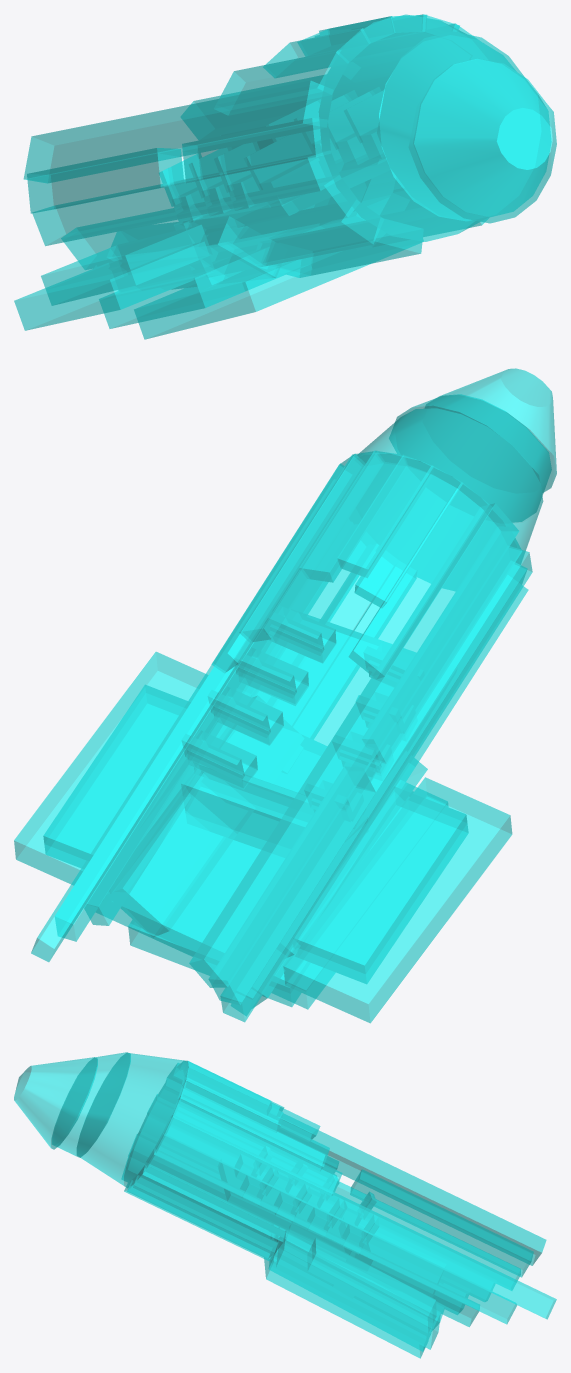
Rendered from SM_Bld_Plane_Front_01_Collision.fbx.
The picture shows the model from 3 angles, top to bottom: view 1: azimuth 30°, elevation 25°; view 2: azimuth 150°, elevation 25°; view 3: azimuth 270°, elevation 25°; orthographic projection. The views are drawn at different scales.
Parts seen in each view (by area): view 1: SM_Bld_Plane_Front_01_Collision; view 2: SM_Bld_Plane_Front_01_Collision; view 3: SM_Bld_Plane_Front_01_Collision.
Part boxes in pixels (x1,y1,x2,y2): SM_Bld_Plane_Front_01_Collision: [14, 14, 556, 339]; SM_Bld_Plane_Front_01_Collision: [14, 368, 556, 1023]; SM_Bld_Plane_Front_01_Collision: [14, 1052, 556, 1358].
Bounding box in the file's own units: 1344 × 1400 × 2416.
